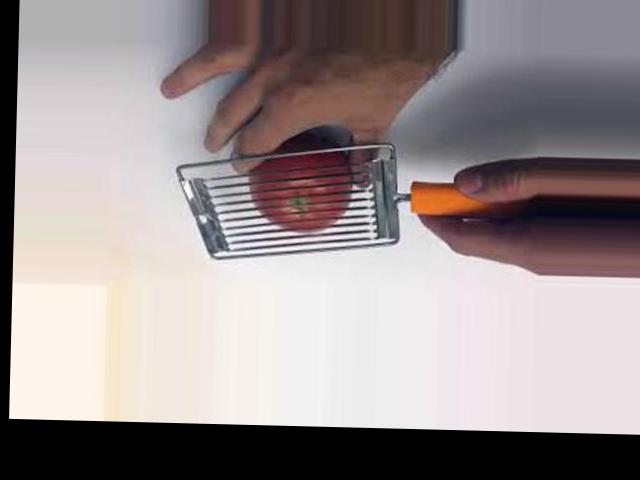tomato: (251, 135, 355, 232)
